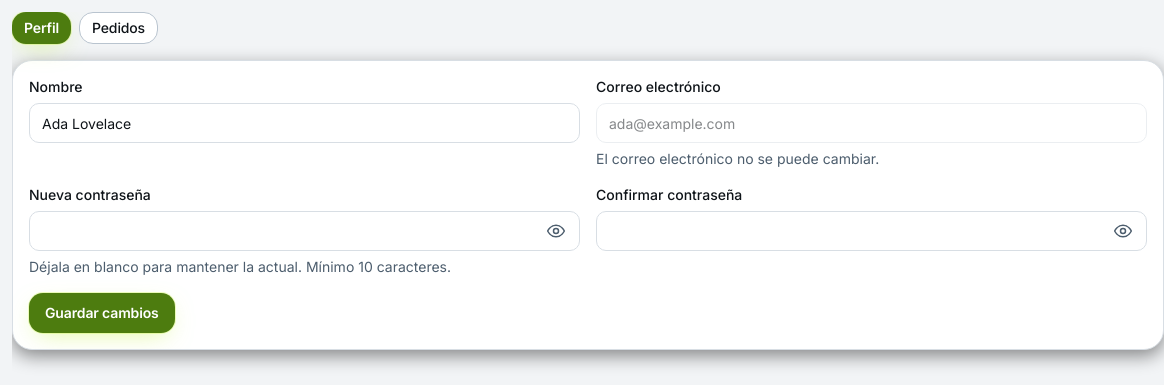
Test: AccountView tabs › switches to the orders tab on click
Click the tab "Pedidos". click: (118, 28)
box: [79,12,158,44]
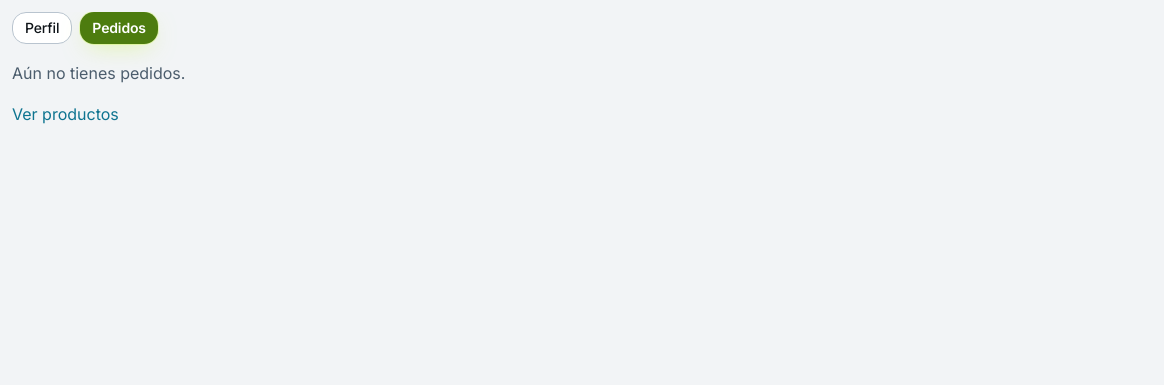
Expected: the text "Aún no tienes pedidos." is shown, [12,63,185,83]
